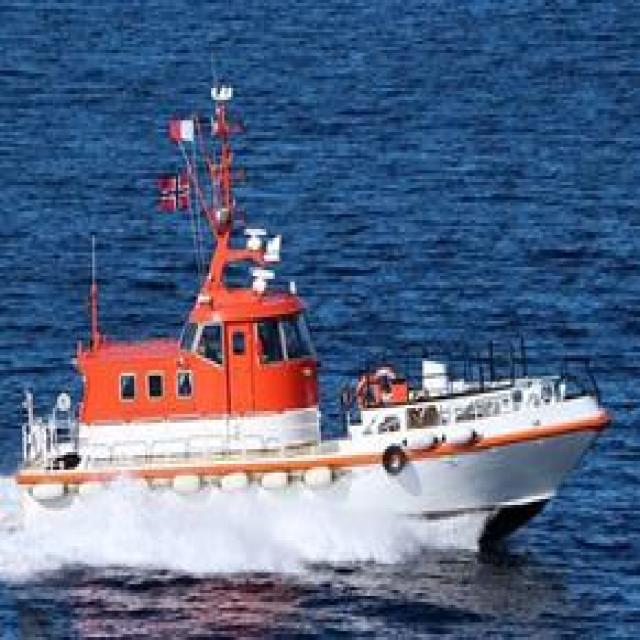houseboat: (5, 99, 610, 552)
